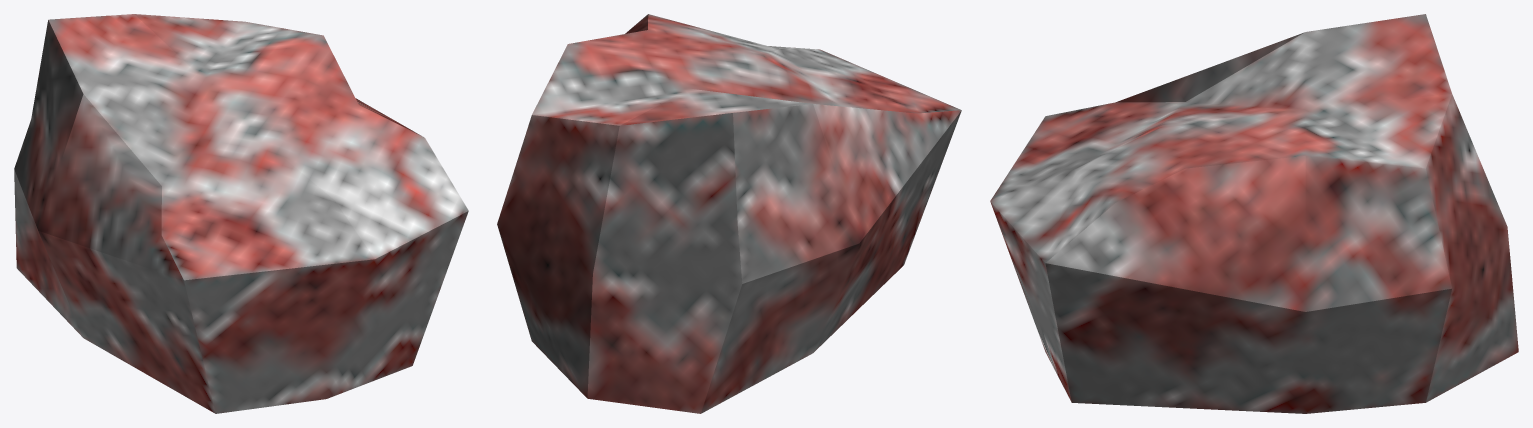
File: Crafting_CinnabarOre.fbx
The picture shows the model from 3 angles, left to right: view 1: azimuth 30°, elevation 25°; view 2: azimuth 150°, elevation 25°; view 3: azimuth 270°, elevation 25°; orthographic projection. The views are drawn at different scales.
Parts seen in each view (by area): view 1: Ore; view 2: Ore; view 3: Ore.
Part boxes in pixels (x1=…): Ore: x1=14, y1=14, x2=468, y2=413; Ore: x1=497, y1=14, x2=961, y2=413; Ore: x1=990, y1=14, x2=1518, y2=413.
Size of the model in its own units: 0.1001 by 0.0786 by 0.1311.
